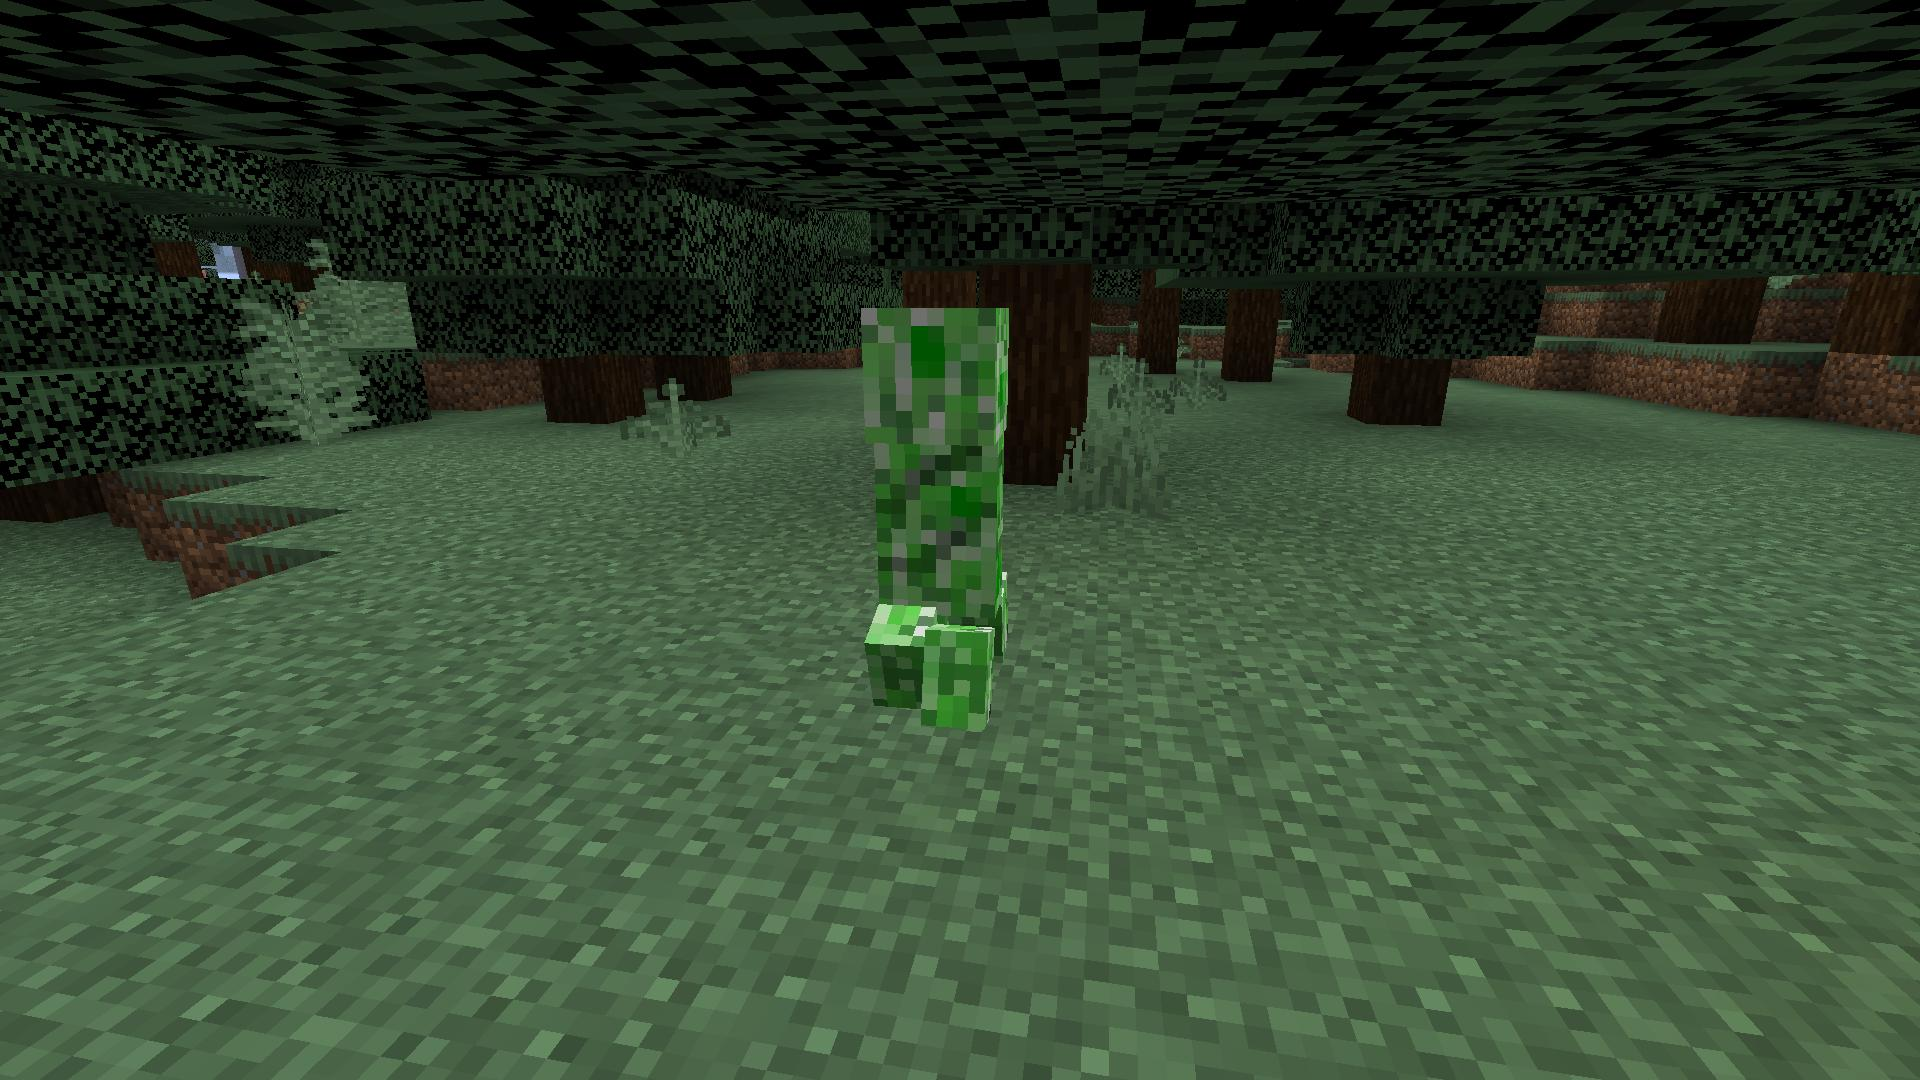creeper: (831, 282, 1030, 744)
